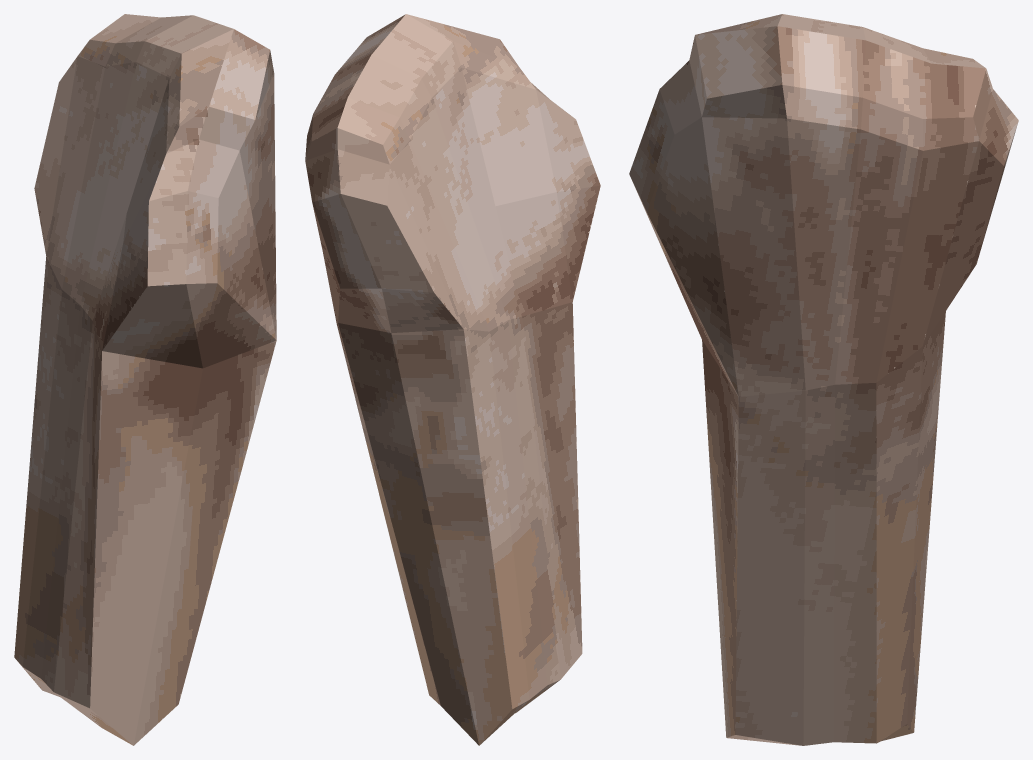
Rendered from hand palm R.glb.
3 views of the same model, side by side, from view 1: azimuth 30°, elevation 25°; view 2: azimuth 150°, elevation 25°; view 3: azimuth 270°, elevation 25° (orthographic). The views are drawn at different scales.
Visible parts, largest first — view 1: ralm R; view 2: ralm R; view 3: ralm R.
Part boxes in pixels (<box>): ralm R: <box>14,14,276,745</box>; ralm R: <box>305,14,600,745</box>; ralm R: <box>629,14,1018,745</box>.
Bounding box in the file's own units: 0.1633 × 0.4883 × 0.219.
1 material, 1 textured.
